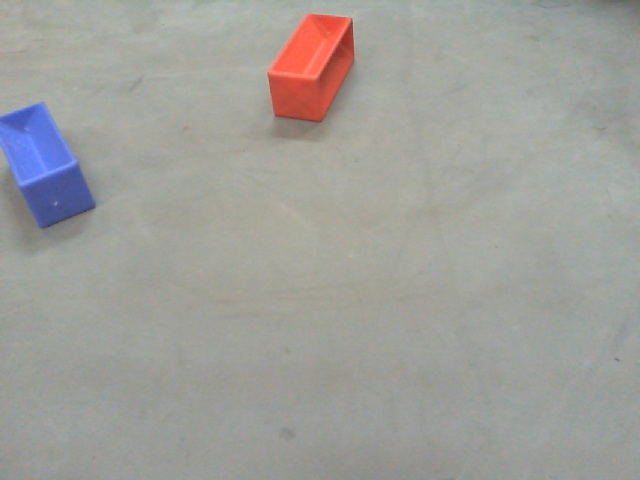BlueSample: (1, 101, 99, 230)
RedSample: (263, 8, 359, 129)
